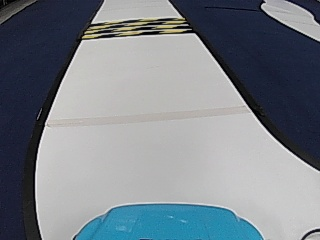bump: (98, 15, 180, 41)
